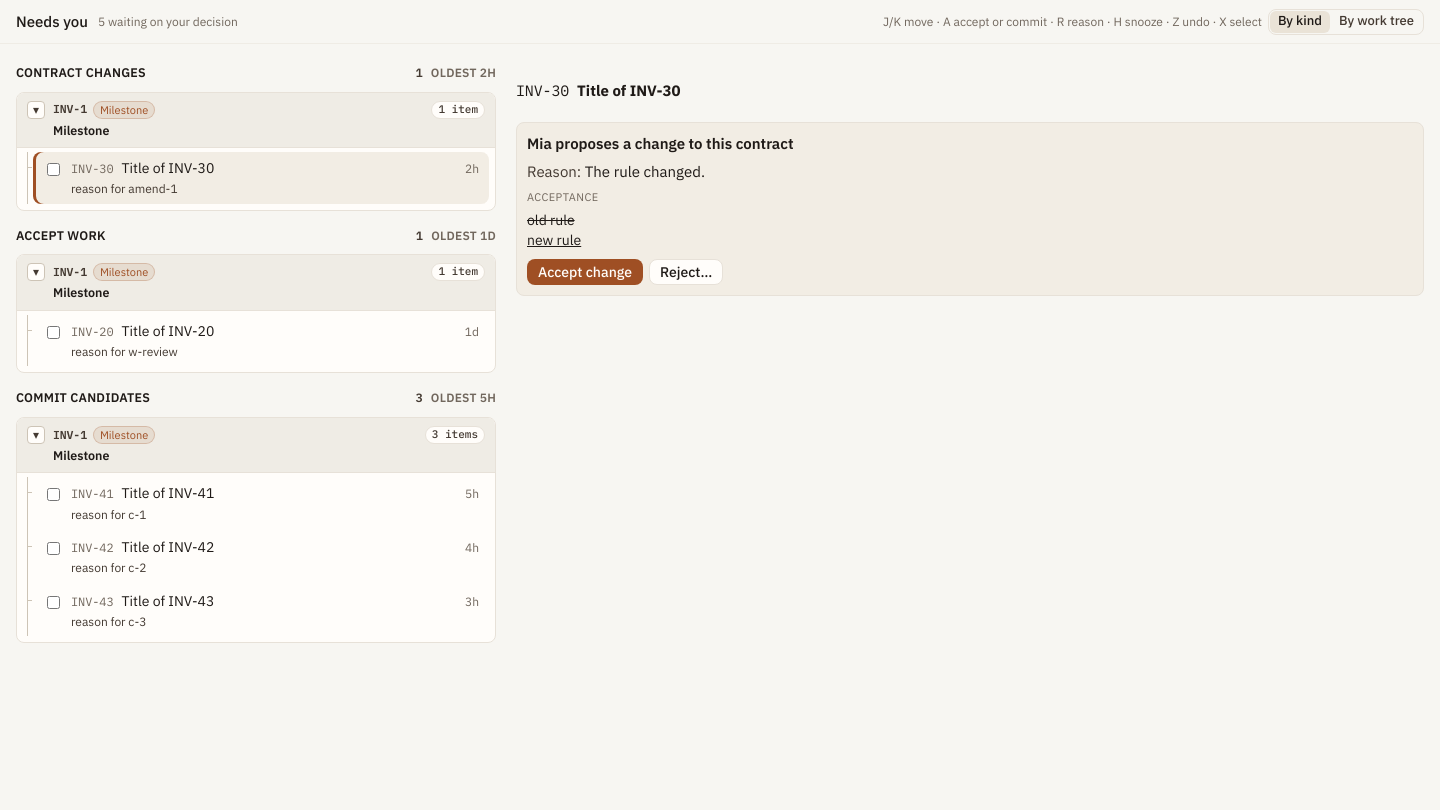
Test: Needs you by work tree (INV-1094) › offers the pack's suggested decisions only after showing the list, and stops at the first refusal
Click the tab "By work tree". click: [1376, 22]
box: left=1331, top=10, right=1422, bottom=32
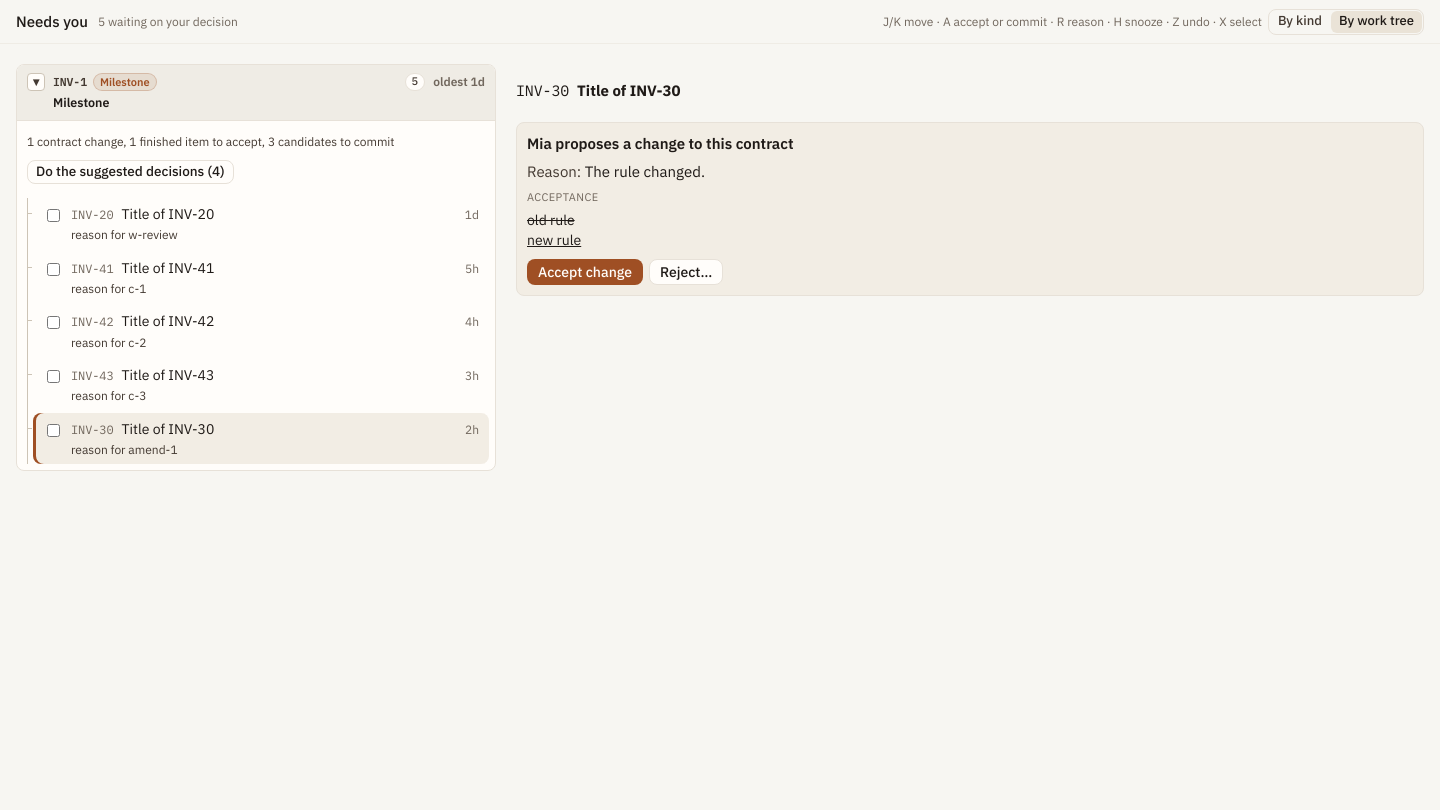
Click the button "Do the suggested decisions (4)". click: [130, 172]
box: left=27, top=160, right=234, bottom=184
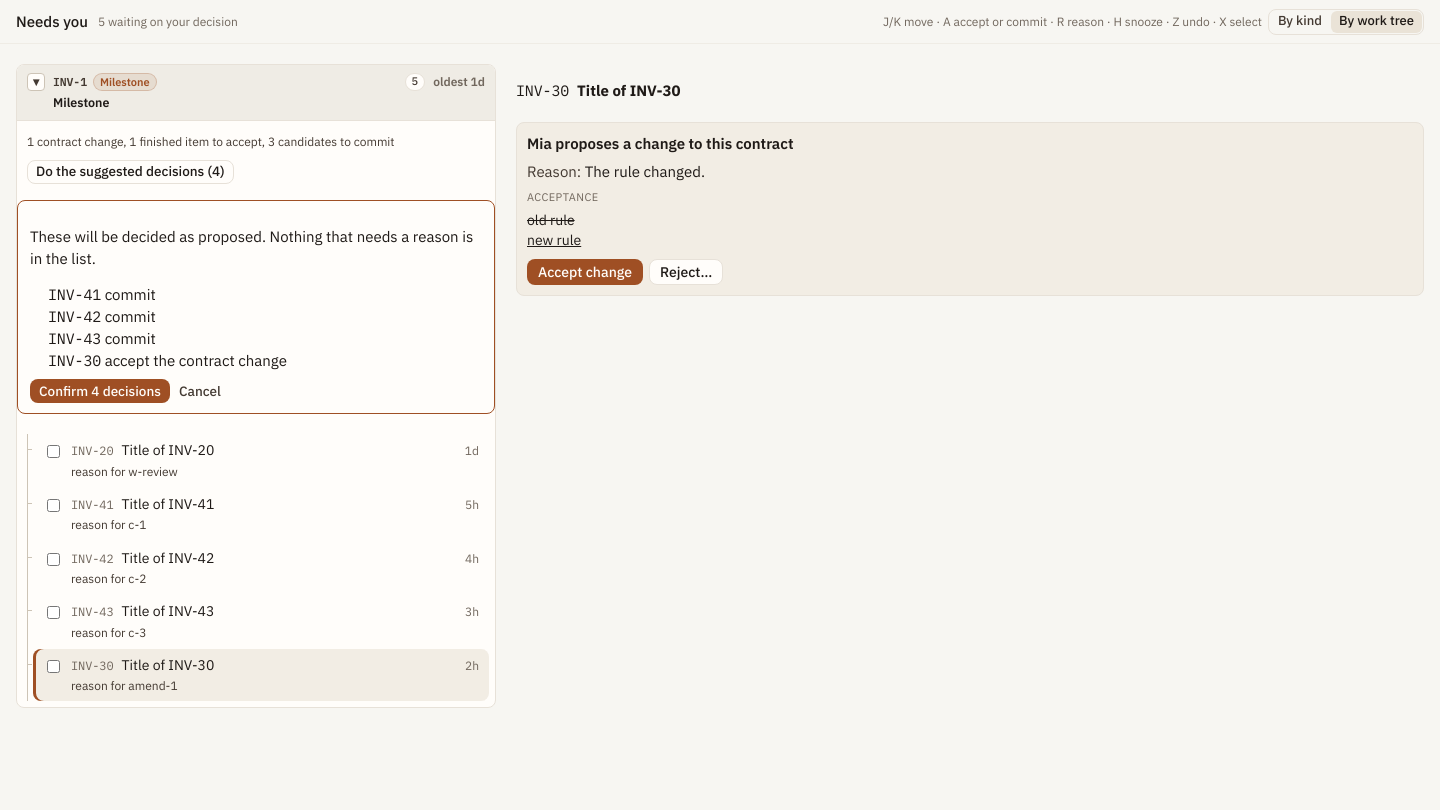
Click the button "Confirm 4 decisions". click: [100, 391]
box: left=30, top=379, right=170, bottom=403
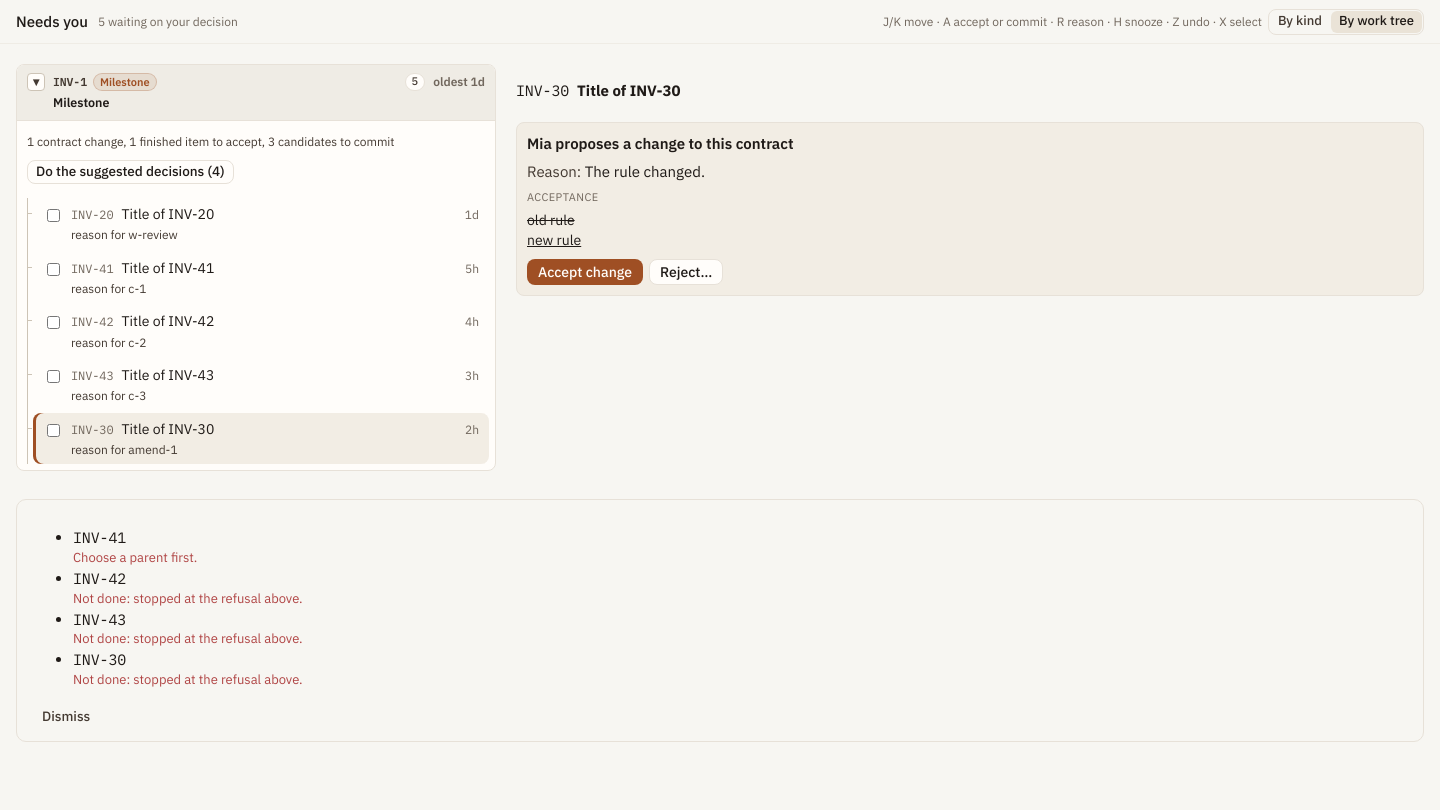
Expected: the text "Choose a parent first." is shown, left=73, top=549, right=197, bottom=566
Expected: the text "Not done: stopped at the refusal above." is shown 3 times, left=73, top=590, right=303, bottom=607; left=73, top=630, right=303, bottom=647; left=73, top=671, right=303, bottom=688
